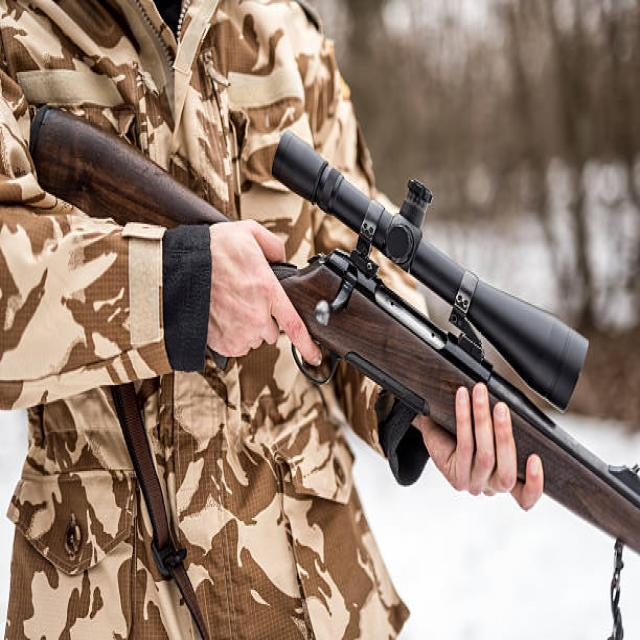rifle: (5, 65, 640, 562)
